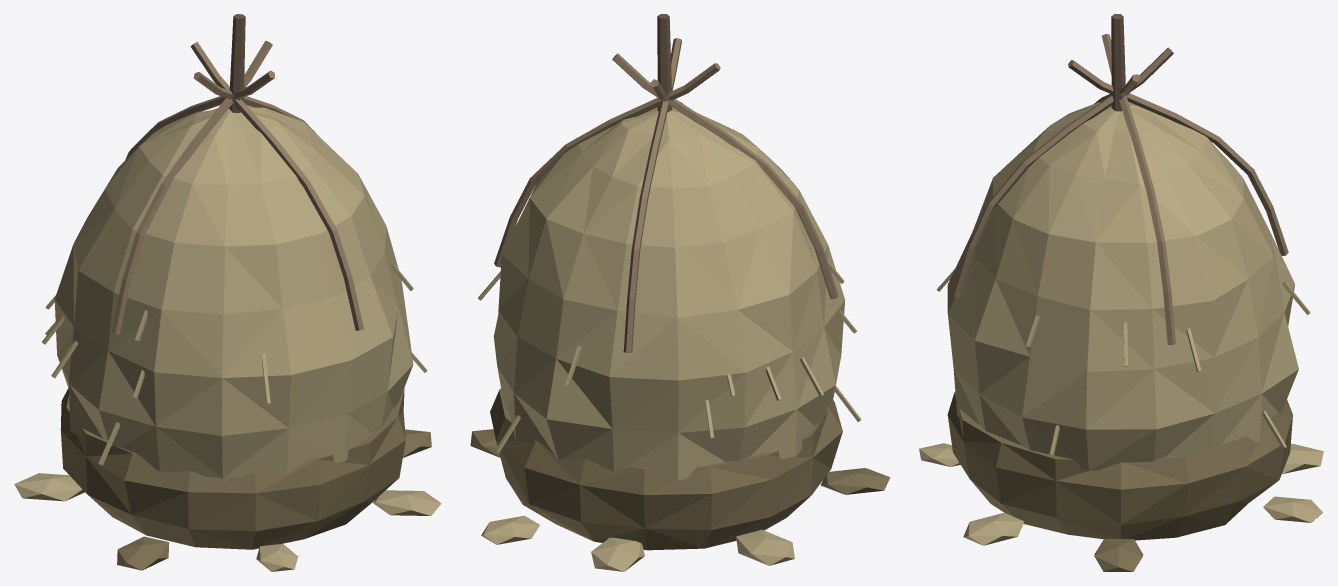
File: haystack.glb
The picture shows the model from 3 angles, left to right: view 1: azimuth 30°, elevation 25°; view 2: azimuth 150°, elevation 25°; view 3: azimuth 270°, elevation 25°; orthographic projection.
Parts seen in each view (by area): view 1: Haystack; view 2: Haystack; view 3: Haystack.
Boxes of the visible parts, x1,y1,x2,y2 form: Haystack: [14, 14, 441, 571]; Haystack: [470, 14, 890, 571]; Haystack: [919, 14, 1323, 571].
Size of the model in its own units: 2.4 by 2.98 by 2.32.
